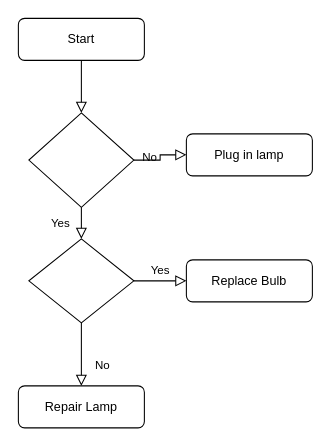
Some shapes in this 331 by 446 pixel diagram are drawn without their labels. The shapes that lost their labels are listed below. From the top down, each one's centre as x and y in pixels, then its label:
At [81,159]: "Continue From Shippig".
At [81,280]: "Bulb burned out?".
